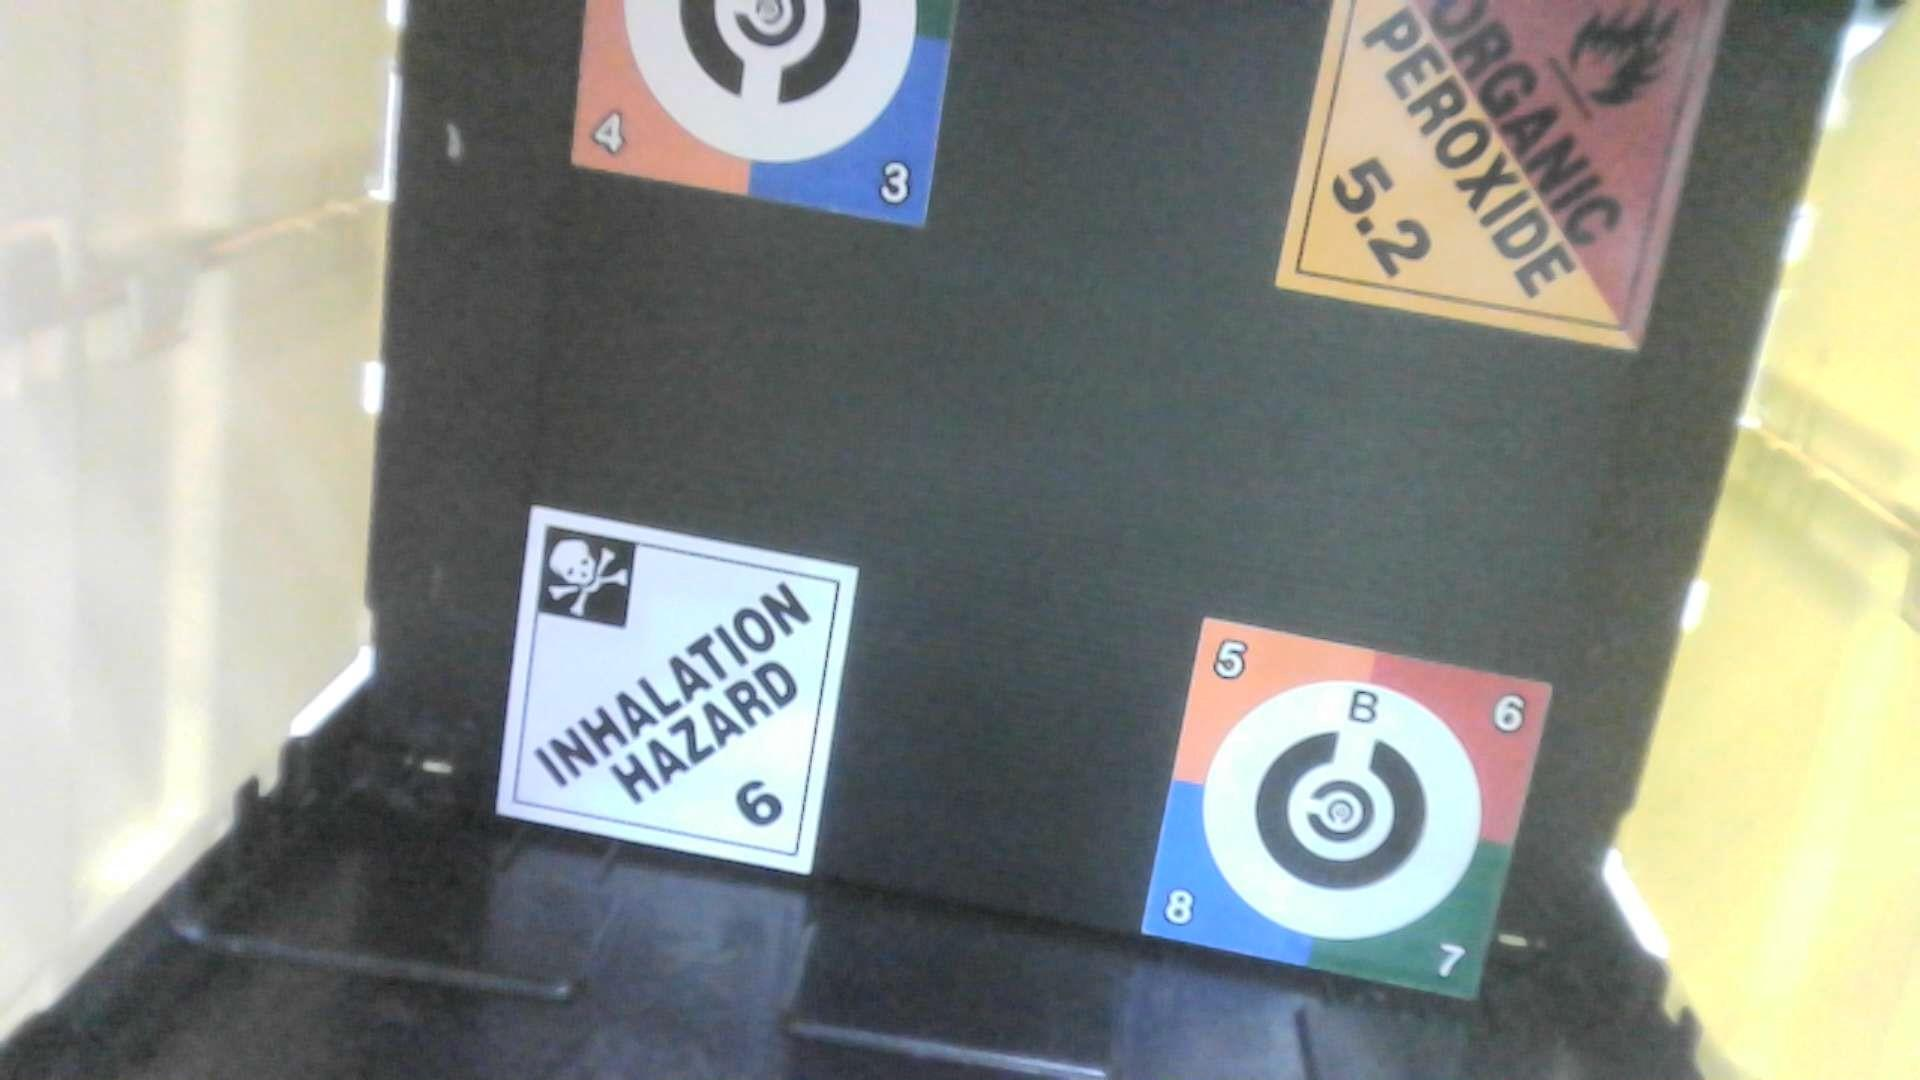organic-peroxide: (1279, 1, 1730, 361)
poison: (495, 501, 860, 880)
